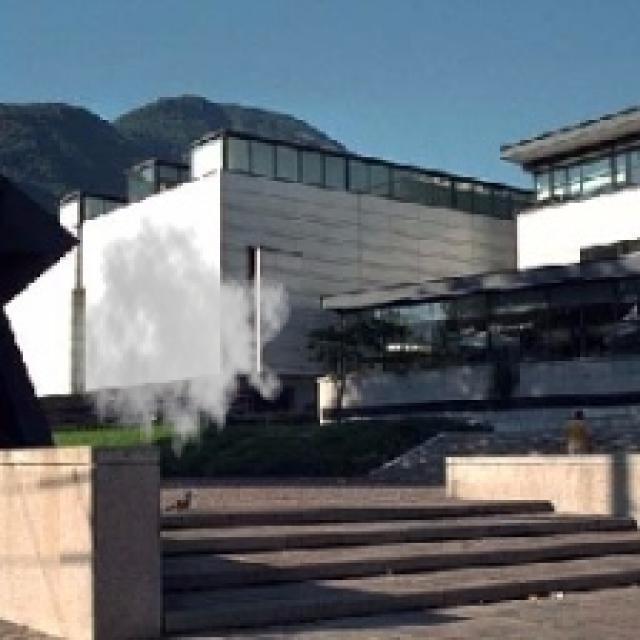Smoke: (68, 215, 292, 474)
